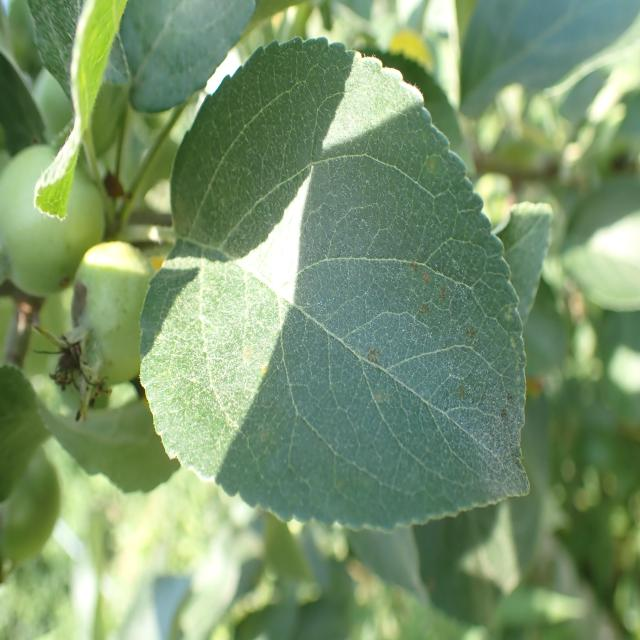scab: (212, 108, 526, 525)
